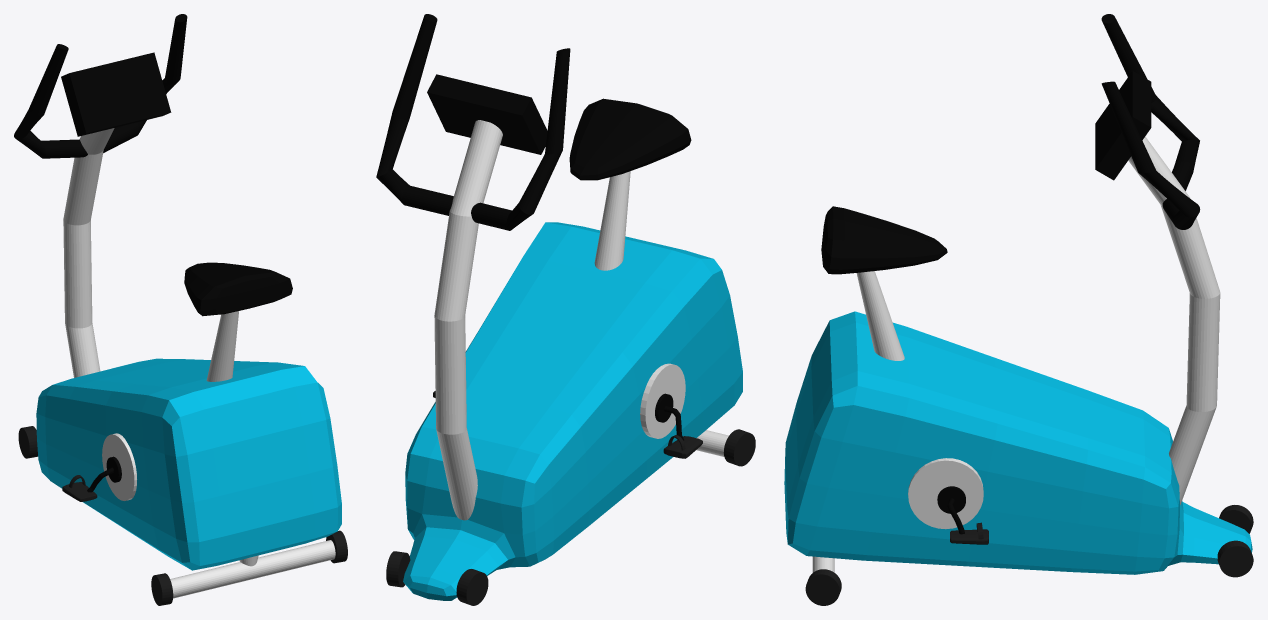
Rendered from kuntopyörä 04.12.2023.fbx.
3 renders of one model, left to right at view 1: azimuth 30°, elevation 25°; view 2: azimuth 150°, elevation 25°; view 3: azimuth 270°, elevation 25°, orthographic. The views are drawn at different scales.
Visible parts, largest first — view 1: Cube, Cylinder.001, Cylinder.002, Cube.002, Cylinder.005, Cylinder.003, Cylinder.006, Cube.001, Cube.005, Cube.003, Cylinder.007, Cube.006; view 2: Cube, Cylinder.001, Cylinder.005, Cube.002, Cylinder.002, Cube.001, Cylinder.006, Cube.003, Cube.005, Cube.004, Cylinder.007, Cylinder.003 (+1 smaller); view 3: Cube, Cylinder.001, Cube.002, Cylinder.005, Cylinder.006, Cylinder.002, Cube.001, Cube.004, Cube.006, Cylinder.007, Cube.003.
Boxes of the visible parts, bbox=[...] form: Cube: bbox=[36, 358, 341, 570]; Cylinder.001: bbox=[63, 128, 114, 377]; Cylinder.002: bbox=[61, 52, 171, 136]; Cube.002: bbox=[184, 262, 292, 316]; Cylinder.005: bbox=[14, 14, 187, 158]; Cylinder.003: bbox=[170, 540, 335, 598]; Cylinder.006: bbox=[102, 433, 136, 500]; Cube.001: bbox=[206, 311, 238, 381]; Cube.005: bbox=[151, 573, 173, 605]; Cube.003: bbox=[18, 426, 37, 458]; Cylinder.007: bbox=[87, 456, 121, 492]; Cube.006: bbox=[326, 530, 347, 563]; Cube: bbox=[403, 222, 742, 600]; Cylinder.001: bbox=[434, 120, 502, 520]; Cylinder.005: bbox=[376, 14, 570, 230]; Cube.002: bbox=[569, 98, 691, 180]; Cylinder.002: bbox=[427, 74, 547, 154]; Cube.001: bbox=[594, 171, 630, 270]; Cylinder.006: bbox=[640, 363, 685, 438]; Cube.003: bbox=[456, 569, 488, 605]; Cube.005: bbox=[723, 429, 755, 466]; Cube.004: bbox=[386, 551, 410, 587]; Cylinder.007: bbox=[655, 393, 683, 440]; Cylinder.003: bbox=[696, 430, 728, 456]; Cube: bbox=[784, 311, 1252, 574]; Cylinder.001: bbox=[1128, 136, 1220, 504]; Cube.002: bbox=[821, 206, 947, 274]; Cylinder.005: bbox=[1101, 14, 1200, 229]; Cylinder.006: bbox=[908, 458, 983, 529]; Cylinder.002: bbox=[1095, 71, 1151, 180]; Cube.001: bbox=[856, 271, 904, 360]; Cube.004: bbox=[1217, 540, 1253, 577]; Cube.006: bbox=[805, 569, 841, 605]; Cylinder.007: bbox=[937, 486, 965, 534]; Cube.003: bbox=[1219, 505, 1253, 533].
Bounding box in the file's own units: 71 × 138 × 115.
